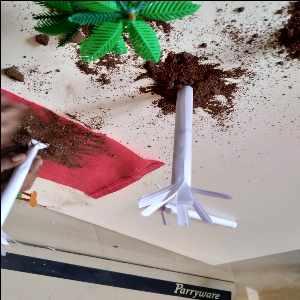plant: (51, 1, 188, 61)
weed: (129, 71, 232, 227), (1, 138, 58, 270)
